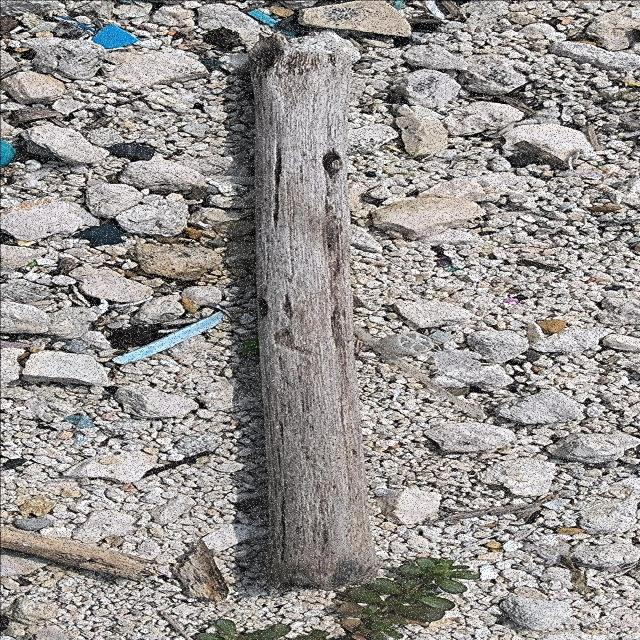wood_waste: (241, 29, 381, 597)
